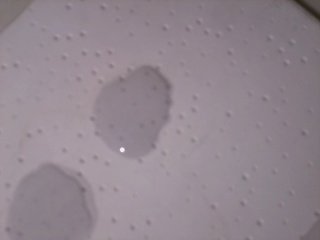Water_detected: (98, 74, 163, 153), (26, 177, 84, 237)
